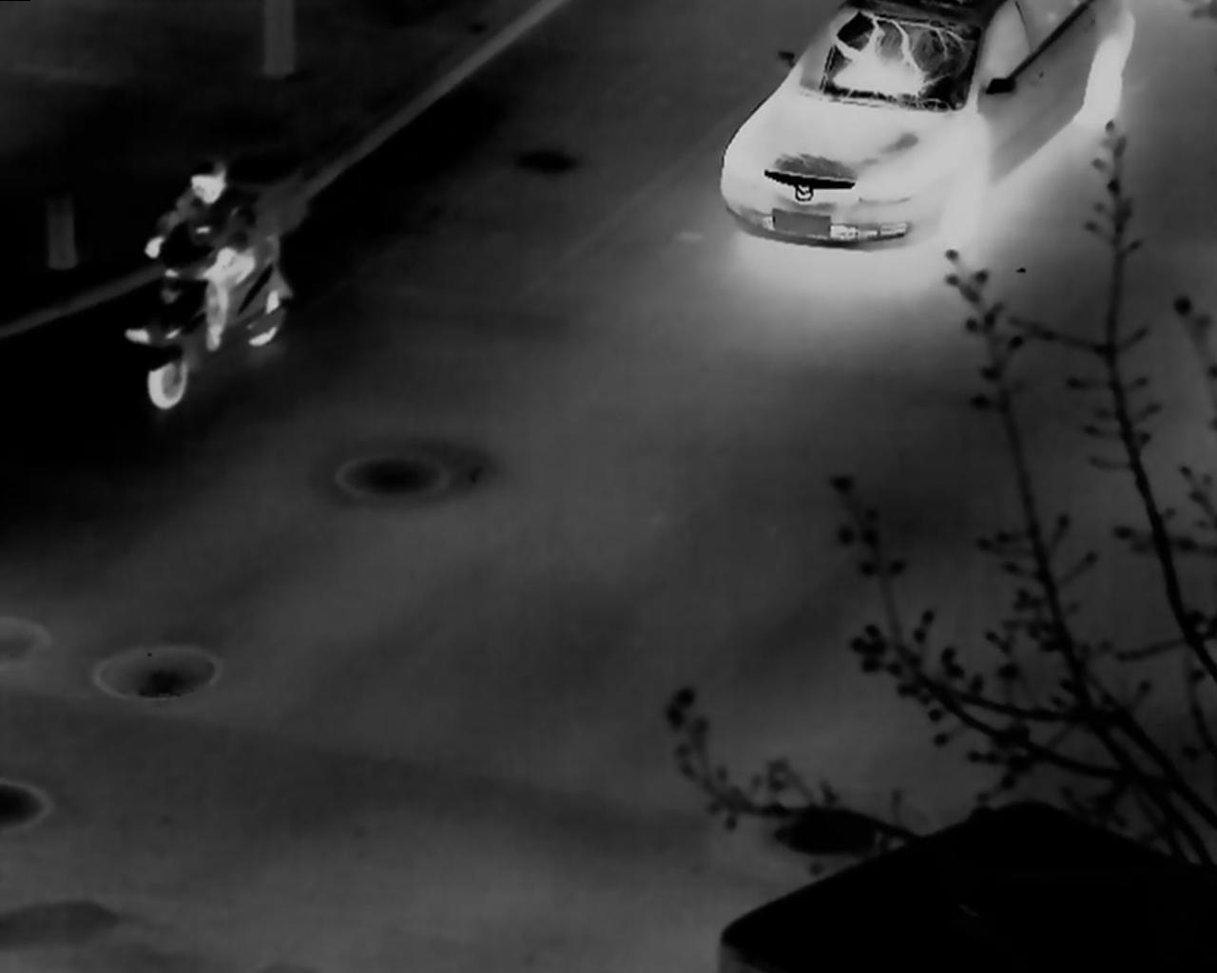person: (123, 160, 258, 357)
